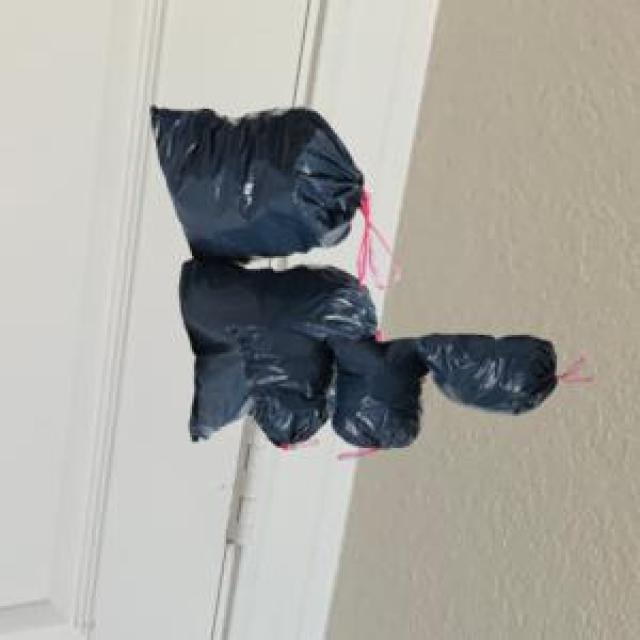Trashbag: (149, 96, 362, 275), (324, 318, 436, 454), (230, 323, 337, 450), (418, 327, 562, 414)
